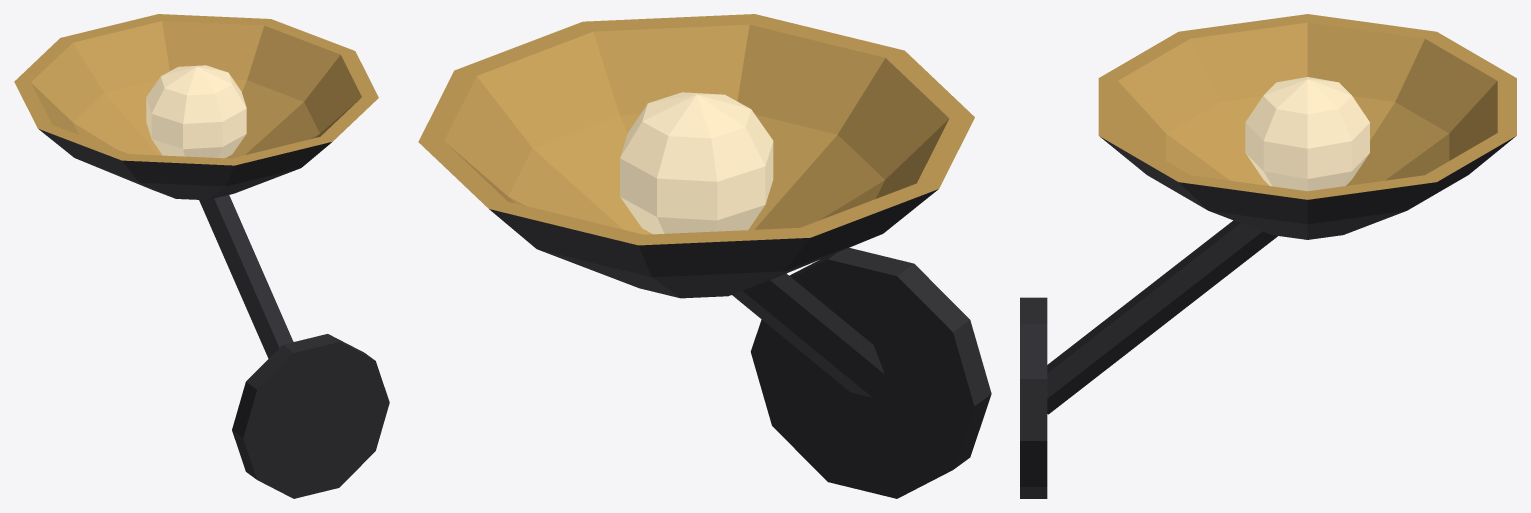
File: FN_Lamp_Wall.glb
3 views of the same model, side by side, from view 1: azimuth 30°, elevation 25°; view 2: azimuth 150°, elevation 25°; view 3: azimuth 270°, elevation 25° (orthographic). The views are drawn at different scales.
Visible parts, largest first — view 1: FN_Lamp_Wall; view 2: FN_Lamp_Wall; view 3: FN_Lamp_Wall.
Boxes of the visible parts, x1,y1,x2,y2 form: FN_Lamp_Wall: (14,14,389,498); FN_Lamp_Wall: (418,14,991,498); FN_Lamp_Wall: (1020,14,1516,498).
Bounding box in the file's own units: 0.26 × 0.2651 × 0.2936.
Materials: 2 (2 with a texture image).
